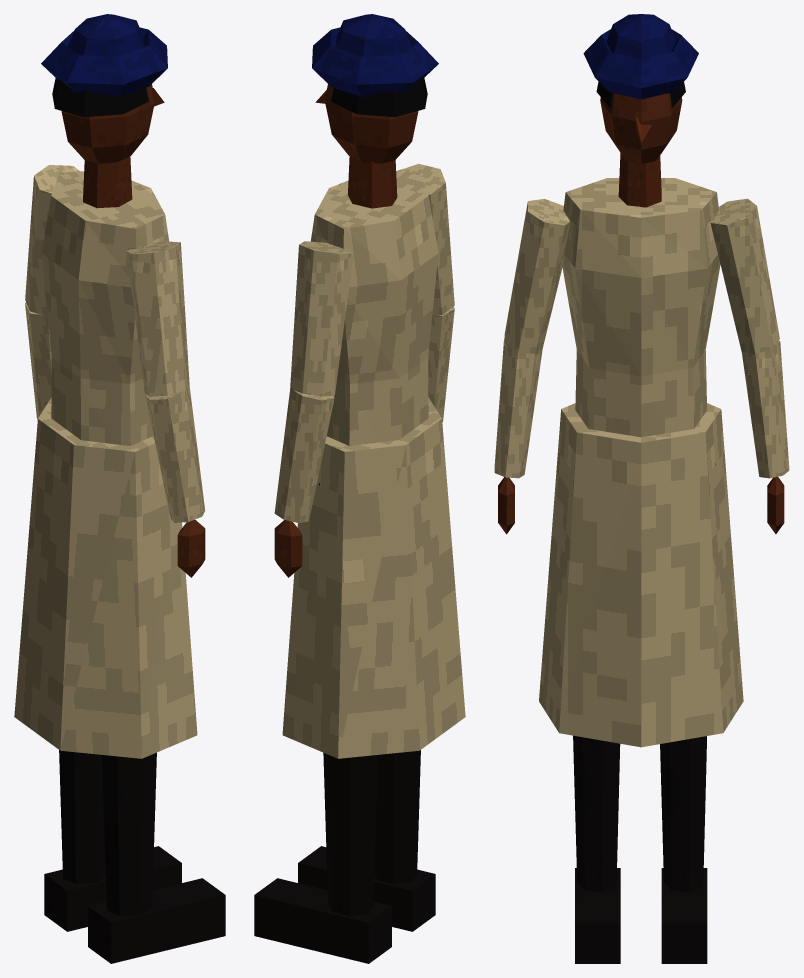
Rendered from nomada_desierto.glb.
3 renders of one model, left to right at view 1: azimuth 30°, elevation 25°; view 2: azimuth 150°, elevation 25°; view 3: azimuth 270°, elevation 25°, orthographic.
Visible parts, largest first — view 1: faldon, torso, pierna_der, brazo_der, pie_der, turbante, pierna_izq, antebrazo_der, cabeza, pie_izq, brazo_izq, cuello (+3 smaller); view 2: faldon, torso, pierna_izq, brazo_izq, pie_izq, turbante, pierna_der, antebrazo_izq, cabeza, pie_der, brazo_der, cuello (+3 smaller); view 3: faldon, torso, turbante, brazo_izq, brazo_der, pierna_der, pierna_izq, antebrazo_izq, antebrazo_der, cabeza, pie_izq, pie_der (+3 smaller).
Boxes of the visible parts, x1,y1,x2,y2 form: faldon: (14,397,197,758); torso: (41,171,169,445); pierna_der: (102,752,156,915); brazo_der: (126,241,189,396); pie_der: (88,878,225,963); turbante: (41,14,167,97); pierna_izq: (59,750,105,883); antebrazo_der: (145,387,205,522); cabeza: (61,84,164,163); pie_izq: (44,846,181,931); brazo_izq: (25,165,79,316); cuello: (83,156,132,208); faldon: (282,397,465,758); torso: (310,171,438,445); pierna_izq: (323,752,377,916); brazo_izq: (290,241,353,396); pie_izq: (254,878,391,963); turbante: (312,14,438,97); pierna_der: (374,750,420,884); antebrazo_izq: (274,388,334,523); cabeza: (315,84,418,163); pie_der: (298,846,435,931); brazo_der: (397,164,454,315); cuello: (348,156,397,208); faldon: (539,403,743,747); torso: (562,178,720,437); turbante: (583,14,698,99); brazo_izq: (710,198,779,354); brazo_der: (504,199,570,353); pierna_der: (573,735,620,892); pierna_izq: (660,736,706,891); antebrazo_izq: (742,340,789,478); antebrazo_der: (494,338,542,478); cabeza: (600,93,682,163); pie_izq: (661,868,707,963); pie_der: (575,868,620,963).
Bounding box in the file's own units: 0.3 × 1.7 × 0.5.
Materials: 1 (1 with a texture image).
